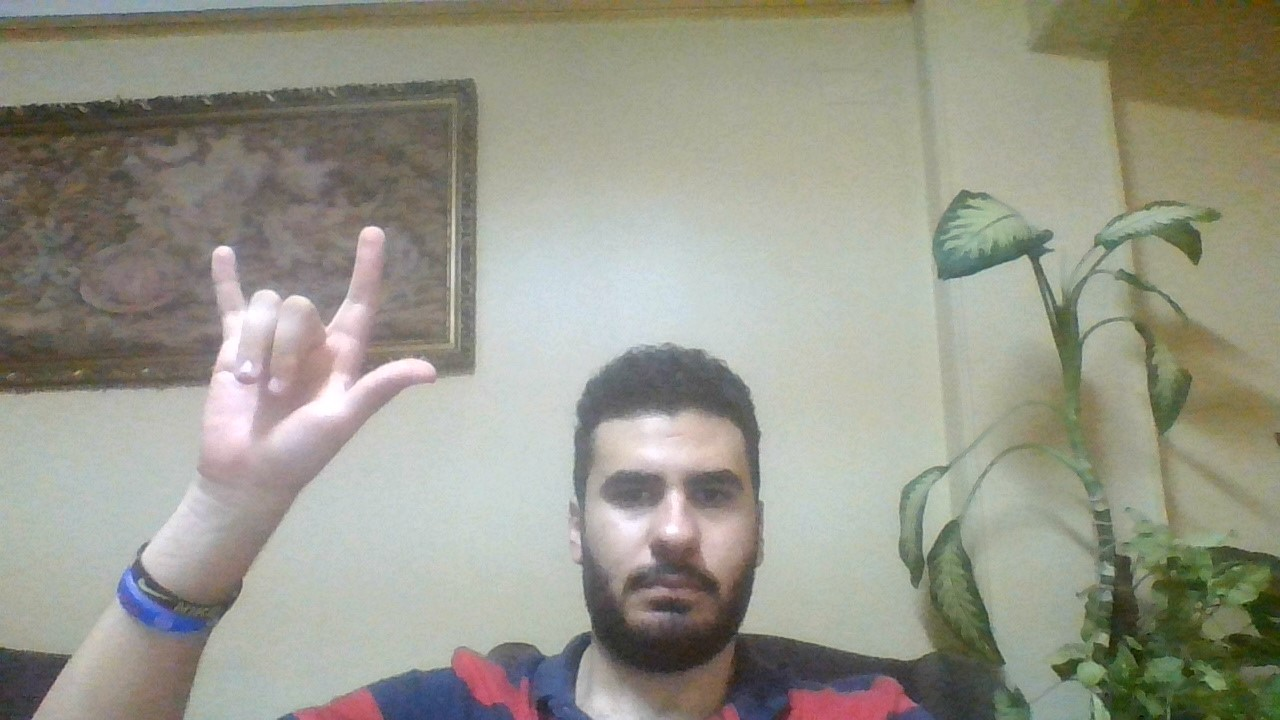love: (185, 226, 449, 484)
